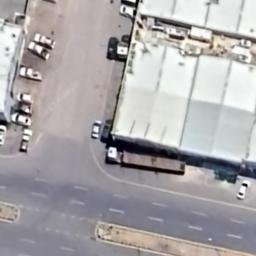pickup: (28, 41, 52, 61), (20, 128, 32, 152), (20, 68, 42, 80)
sedan: (10, 112, 32, 126), (106, 36, 118, 60), (236, 180, 250, 200), (120, 4, 138, 16), (92, 120, 102, 138), (0, 125, 6, 146)
truck: (106, 146, 186, 174)
van: (16, 92, 34, 104)
